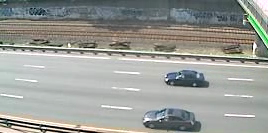car: (140, 105, 200, 131), (162, 68, 209, 90)
